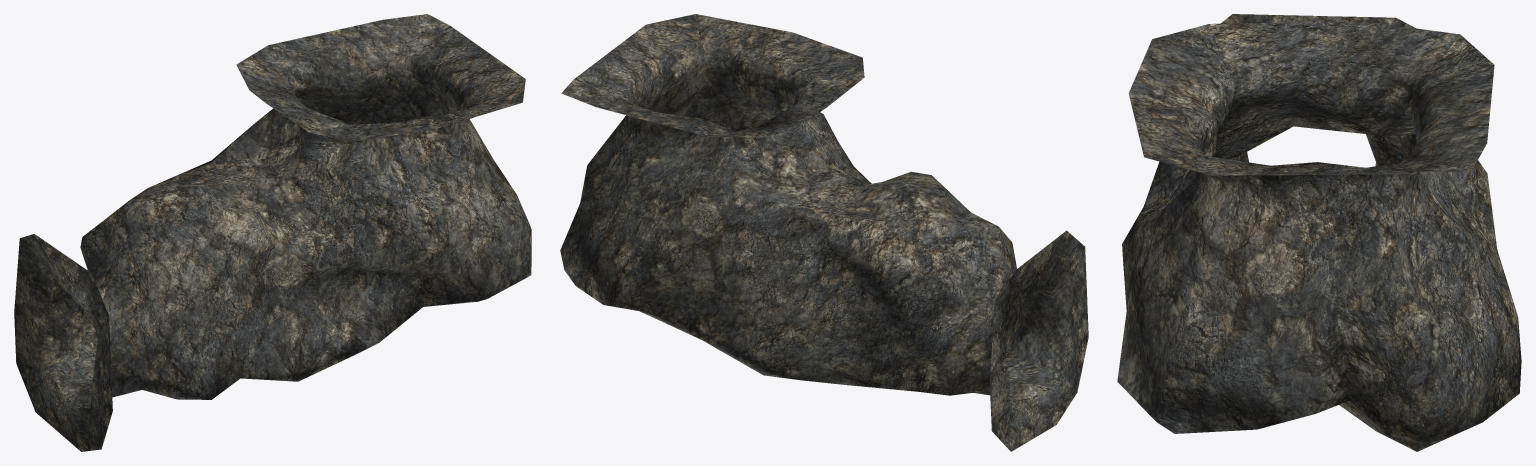
The model's file is Module21A_LOD1.fbx.
The picture shows the model from 3 angles, left to right: view 1: azimuth 30°, elevation 25°; view 2: azimuth 150°, elevation 25°; view 3: azimuth 270°, elevation 25°; orthographic projection. The views are drawn at different scales.
Visible parts, largest first — view 1: cave_el21_1000_Group13577; view 2: cave_el21_1000_Group13577; view 3: cave_el21_1000_Group13577.
Boxes of the visible parts, x1=… form: cave_el21_1000_Group13577: x1=14, y1=14, x2=531, y2=451; cave_el21_1000_Group13577: x1=560, y1=14, x2=1088, y2=451; cave_el21_1000_Group13577: x1=1117, y1=14, x2=1521, y2=451.
Bounding box in the file's own units: 20.95 × 12.88 × 11.71.
